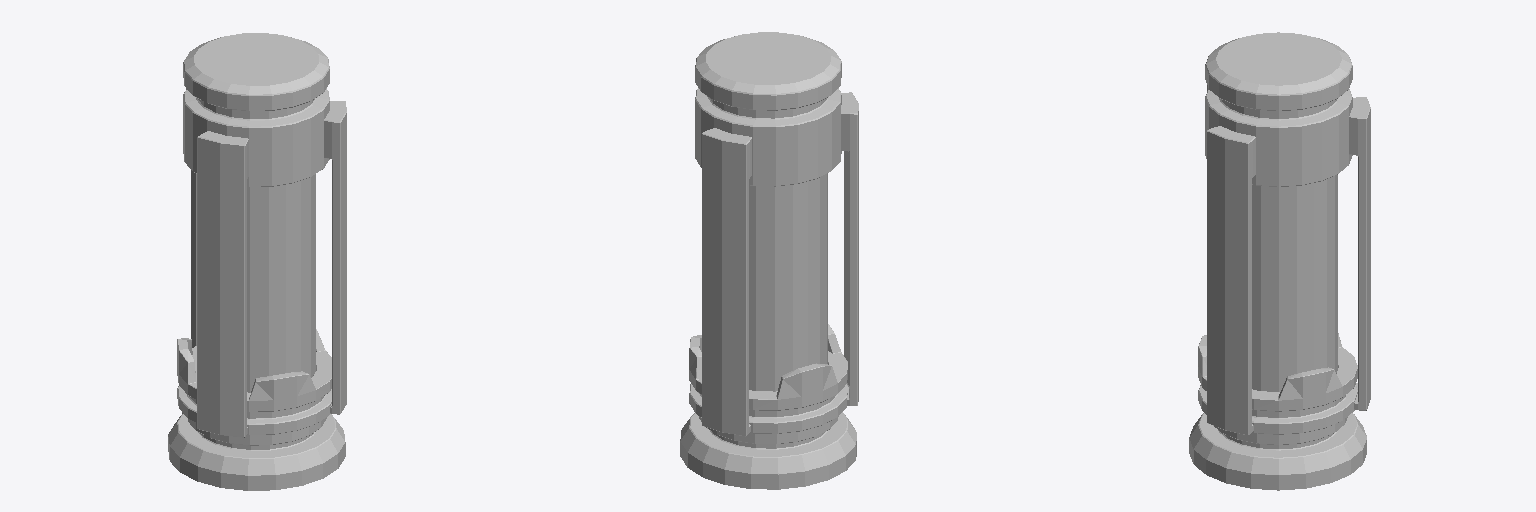
File: battery.obj
3 renders of one model, left to right at view 1: azimuth 30°, elevation 25°; view 2: azimuth 150°, elevation 25°; view 3: azimuth 270°, elevation 25°, orthographic.
Parts seen in each view (by area): view 1: low2_blinn1_0, low2_aiStandardSurface1_0; view 2: low2_blinn1_0, low2_aiStandardSurface1_0; view 3: low2_blinn1_0, low2_aiStandardSurface1_0.
Boxes of the visible parts, <box> form: low2_blinn1_0: <box>168,33,346,490</box>; low2_aiStandardSurface1_0: <box>247,174,315,392</box>; low2_blinn1_0: <box>680,32,858,489</box>; low2_aiStandardSurface1_0: <box>749,173,827,391</box>; low2_blinn1_0: <box>1189,32,1370,490</box>; low2_aiStandardSurface1_0: <box>1252,175,1337,391</box>.
Bounding box in the file's own units: 0.3126 × 0.7623 × 0.3187.